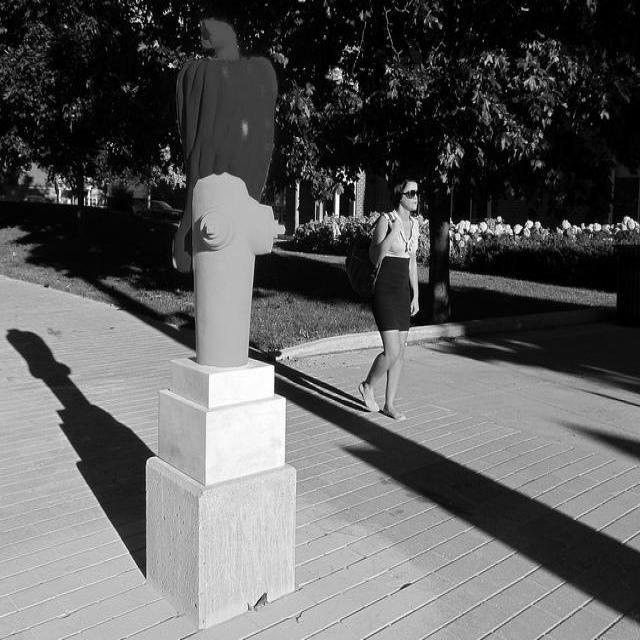vehicle: (134, 202, 182, 221), (19, 195, 48, 202)
